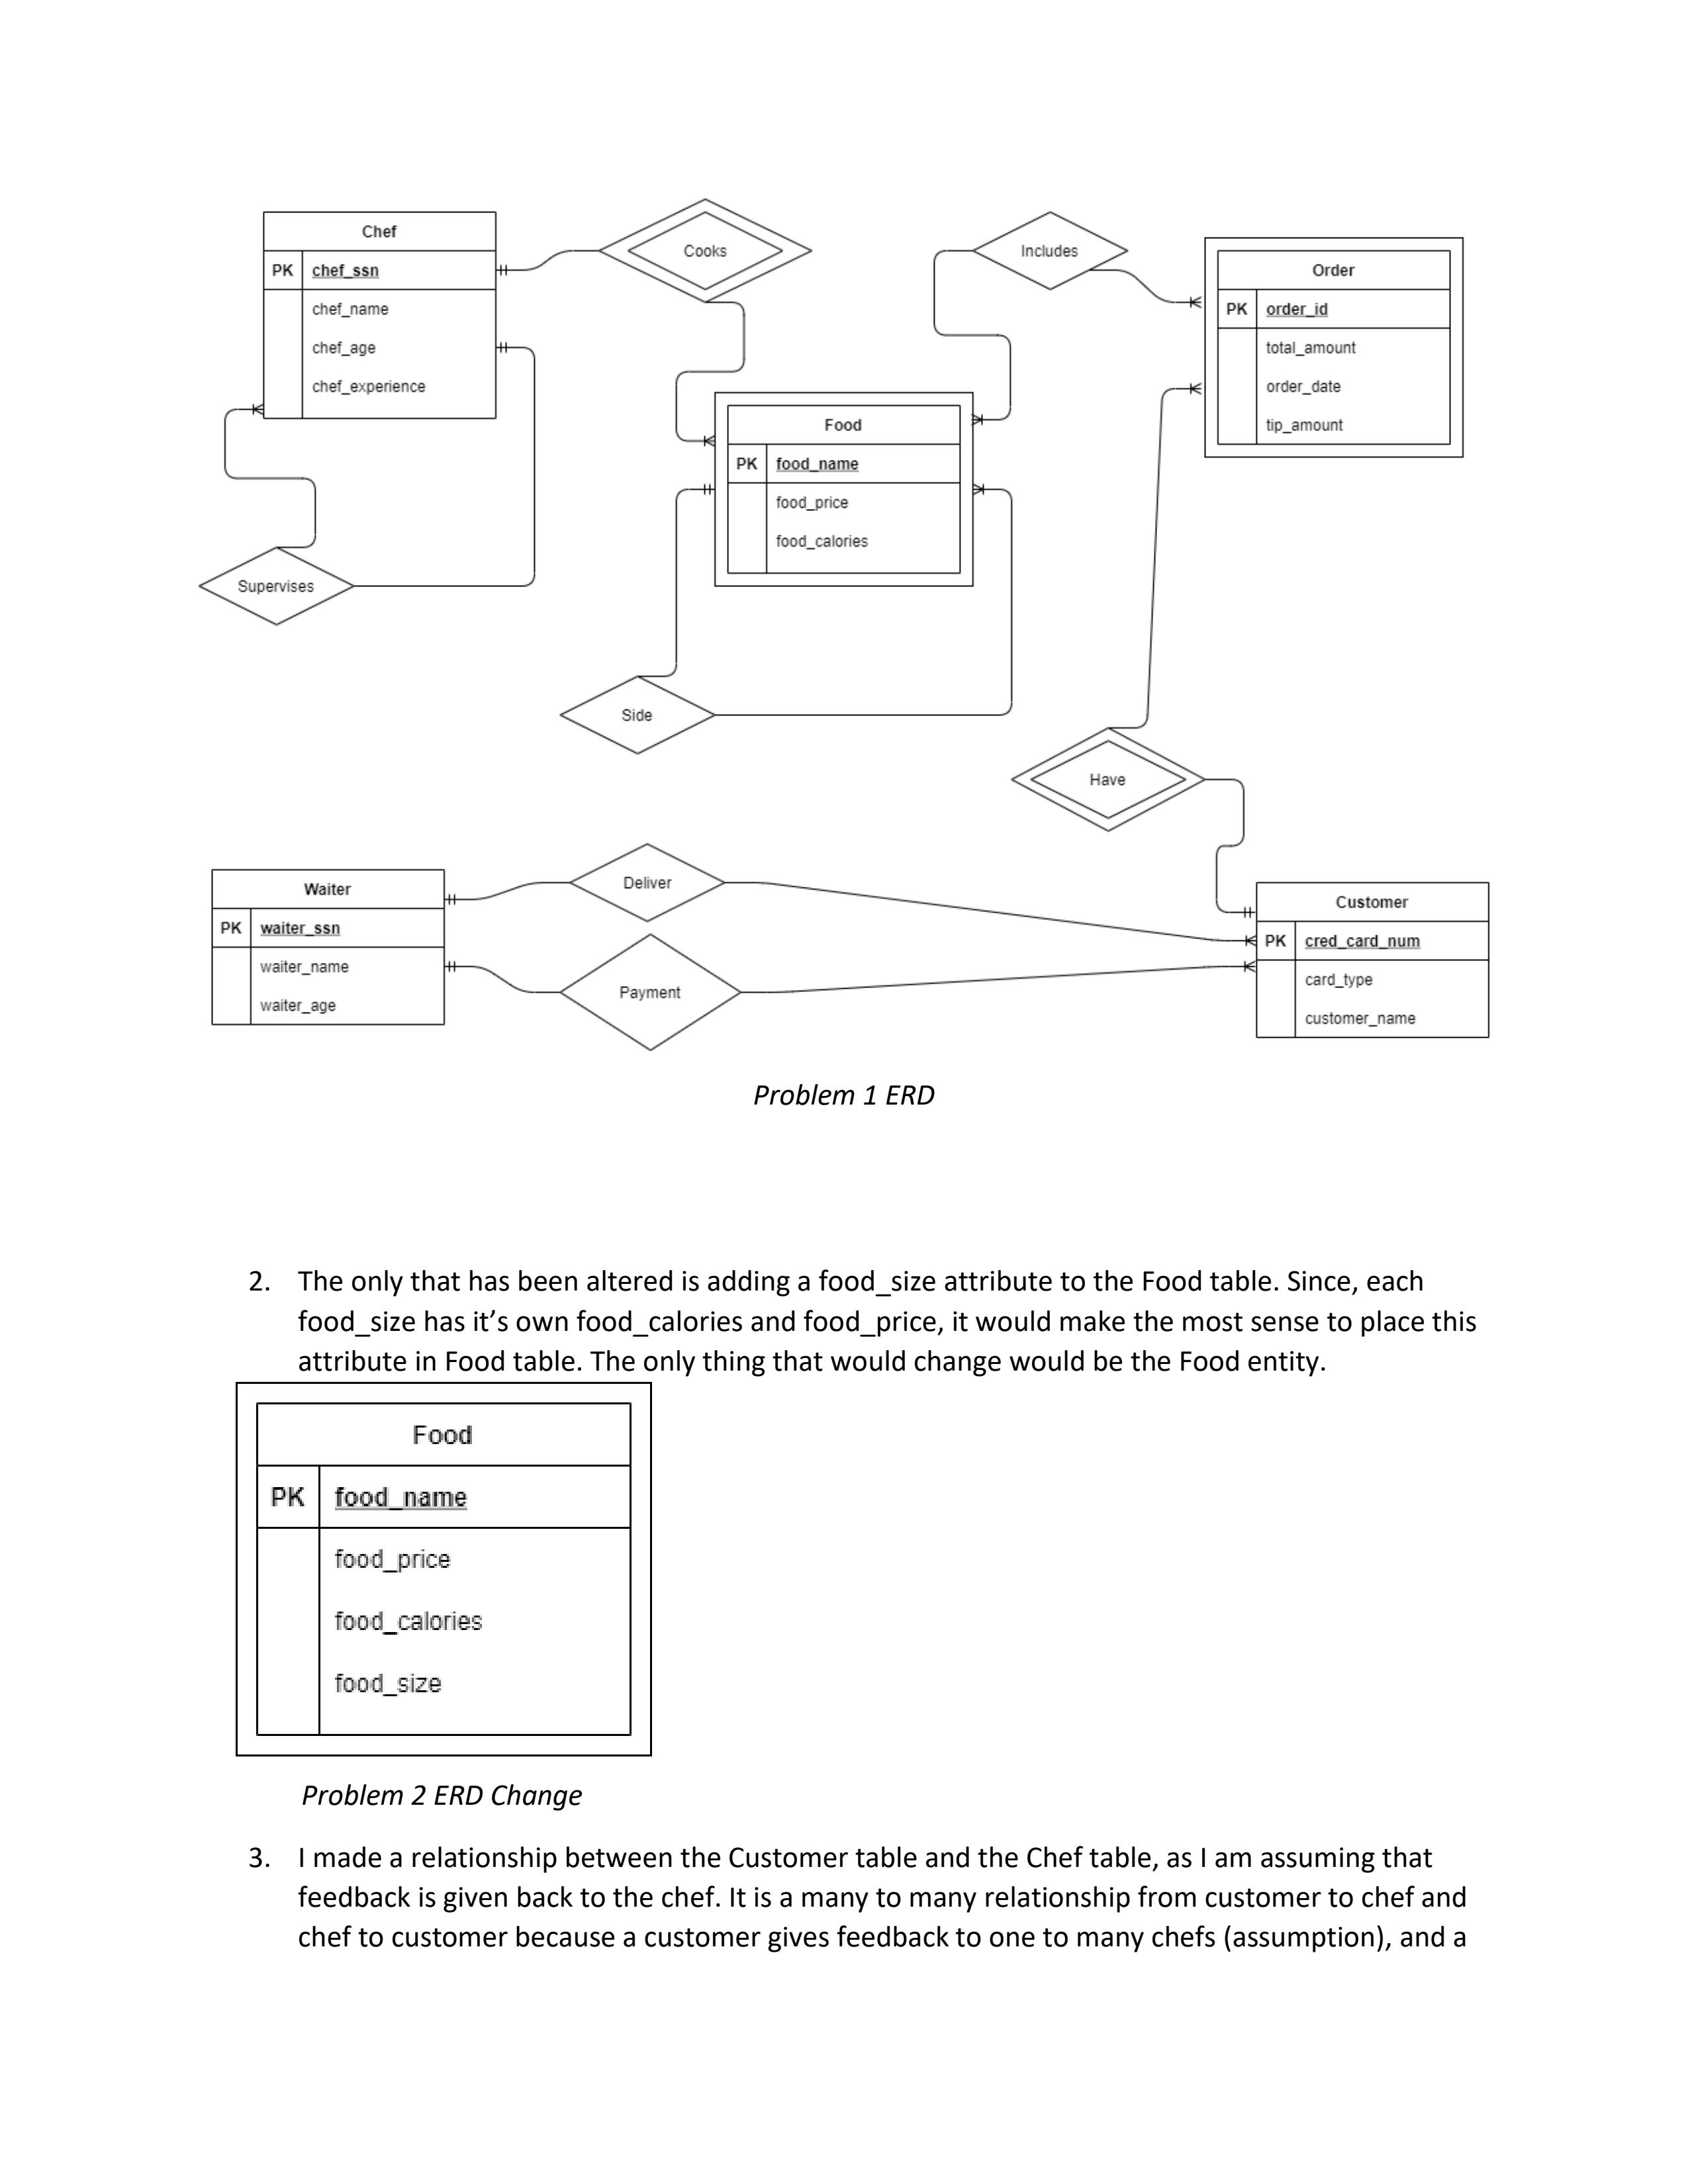Entity: (254, 1399, 637, 1739), (261, 209, 498, 420), (1215, 248, 1452, 447), (725, 402, 963, 576), (1254, 881, 1491, 1041), (209, 867, 447, 1026)
Relationship: (598, 199, 814, 303), (559, 932, 739, 1051), (1009, 727, 1206, 833), (569, 842, 727, 924), (972, 211, 1129, 291), (197, 546, 353, 626), (559, 675, 716, 753)
